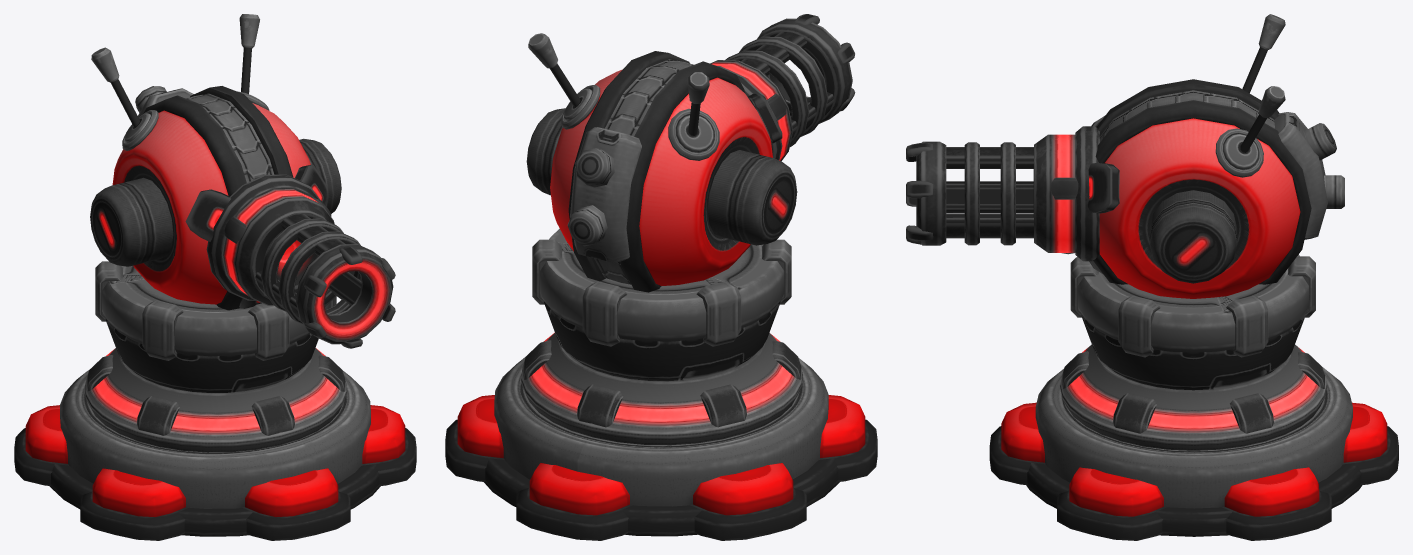
File: Laser_Red_2.gltf
3 views of the same model, side by side, from view 1: azimuth 30°, elevation 25°; view 2: azimuth 150°, elevation 25°; view 3: azimuth 270°, elevation 25° (orthographic). The views are drawn at different scales.
Parts seen in each view (by area): view 1: l3_base, l3_main, l3_mid, l3_barrel, l3_connector; view 2: l3_main, l3_base, l3_mid, l3_connector, l3_barrel; view 3: l3_main, l3_base, l3_mid, l3_barrel, l3_connector.
Part boxes in pixels (x1=…): l3_base: x1=14, y1=370, x2=416, y2=540; l3_main: x1=90, y1=14, x2=341, y2=310; l3_mid: x1=85, y1=319, x2=346, y2=452; l3_barrel: x1=185, y1=164, x2=395, y2=348; l3_connector: x1=95, y1=261, x2=336, y2=360; l3_main: x1=526, y1=33, x2=797, y2=292; l3_base: x1=445, y1=357, x2=877, y2=540; l3_mid: x1=521, y1=301, x2=802, y2=445; l3_connector: x1=532, y1=228, x2=791, y2=346; l3_barrel: x1=710, y1=14, x2=855, y2=161; l3_main: x1=1093, y1=14, x2=1344, y2=298; l3_base: x1=989, y1=367, x2=1398, y2=540; l3_mid: x1=1060, y1=314, x2=1326, y2=450; l3_barrel: x1=906, y1=115, x2=1119, y2=274; l3_connector: x1=1070, y1=254, x2=1315, y2=357.
Bounding box in the file's own units: 0.5975 × 0.706 × 0.7682.
1 material, 1 textured.
